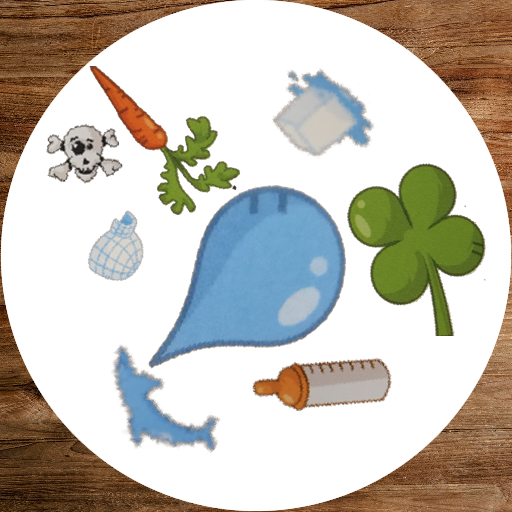bottle_icon: (252, 312, 394, 454)
carrot_icon: (73, 66, 244, 237)
cloverleaf_icon: (318, 160, 494, 336)
cube_icon: (259, 62, 376, 179)
dolphin_icon: (88, 336, 229, 477)
igloo_icon: (81, 208, 155, 282)
raindrop_icon: (143, 172, 358, 387)
skull_icon: (42, 109, 129, 196)
